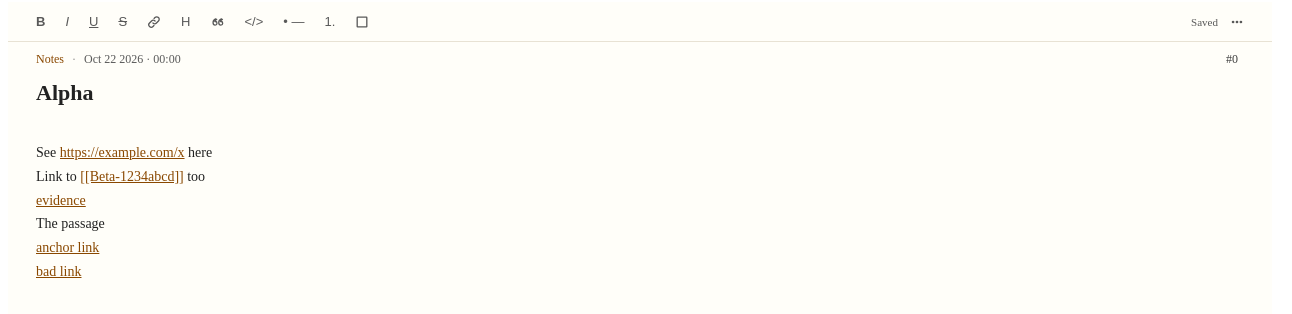
Test: click on #meeting- anchor opens the chip; Go to scrolls
What coordinates should you click on to do the following:
click the link "evidence"
I would click on:
 (61, 200)
Its box is [36,193,86,208].
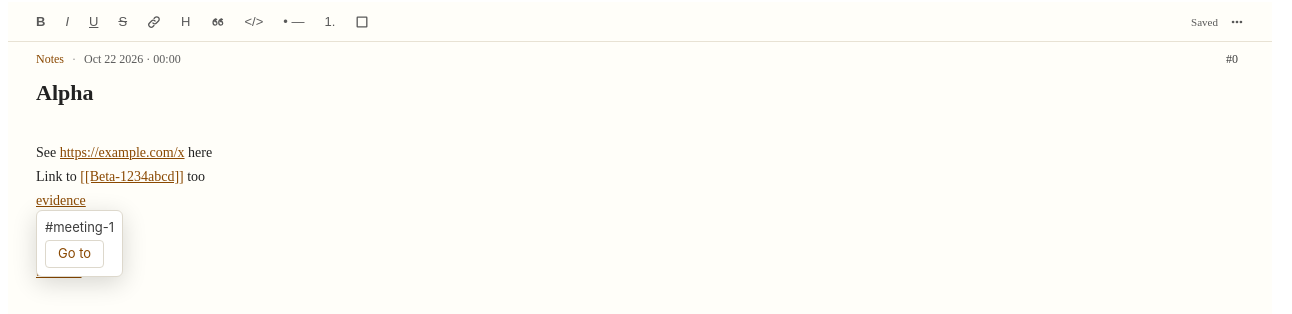
Result: the button "Go to" is shown
What coordinates should you click on to do the following:
click the button "Go to"
I would click on:
 (75, 254)
Its box is [45,240,104,268].
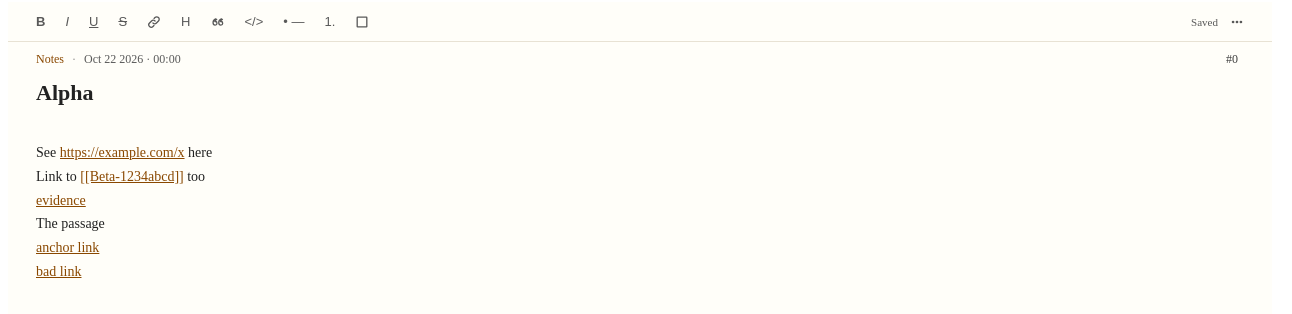
Result: the element with class "link-chip" is gone
